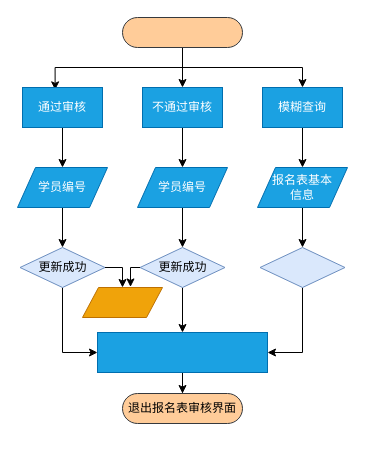
Some shapes in this 365 by 449 pixel diagram are drawn without their labels. The shapes that lost their labels are listed below. From the top down, each one's centre as x and y in pixels, then its label:
At point (182, 32): "进入报名表审核界面".
At point (302, 267): "查找成功".
At point (122, 302): "错误提示".
At point (182, 352): "更新报名表列表".
